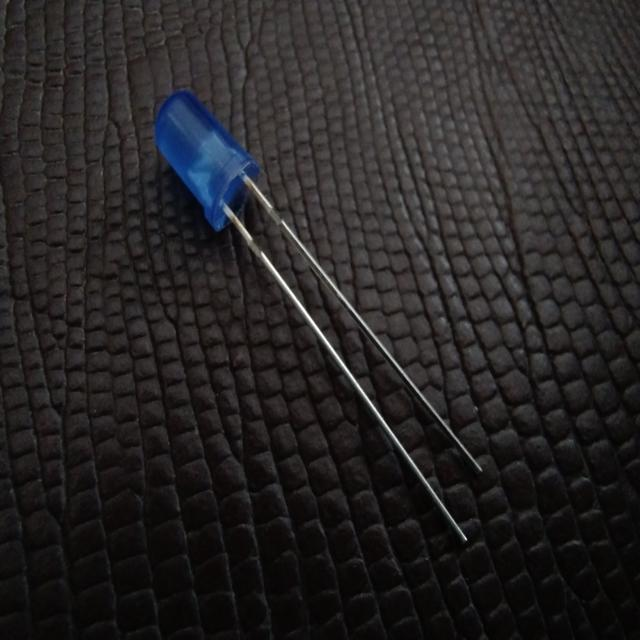blue_led: (154, 87, 260, 233)
